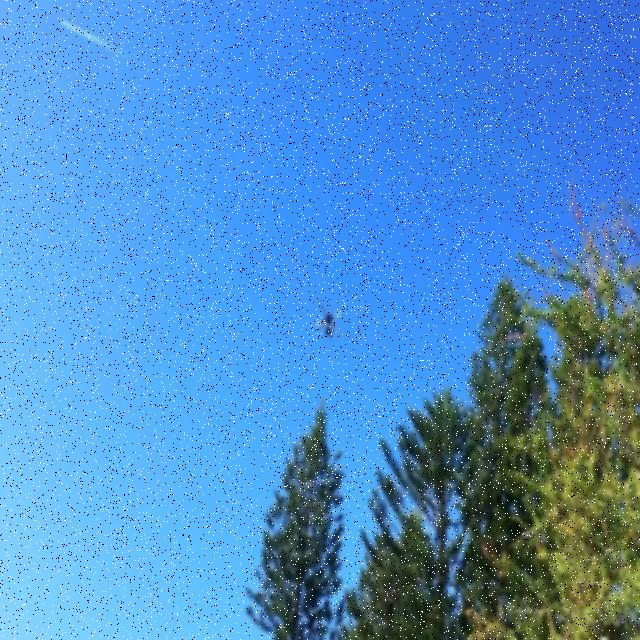UAV: (317, 300, 343, 342)
